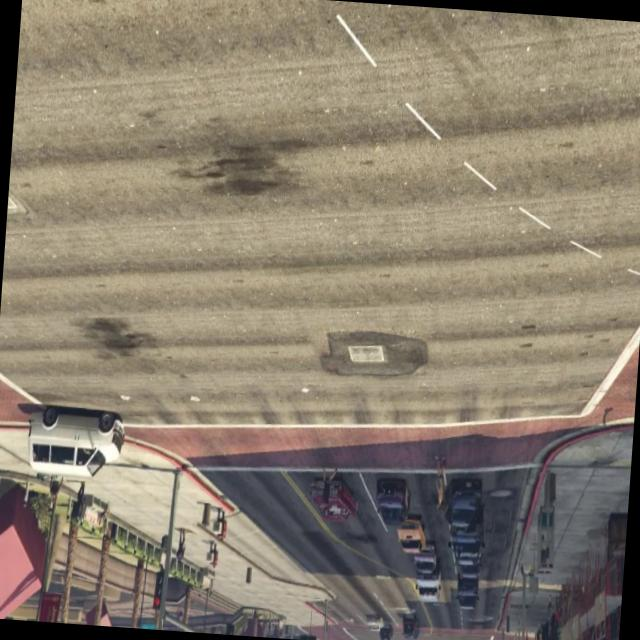Red-Signal: (148, 560, 166, 618), (292, 624, 324, 640), (221, 615, 241, 635)
